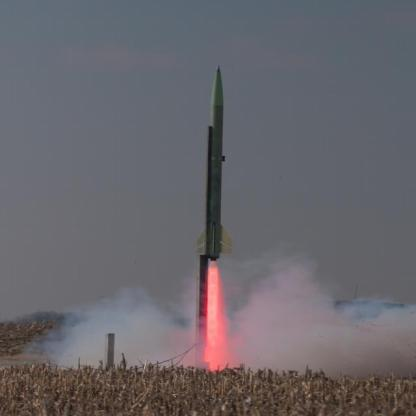MIL_TBM: (204, 64, 228, 268)
